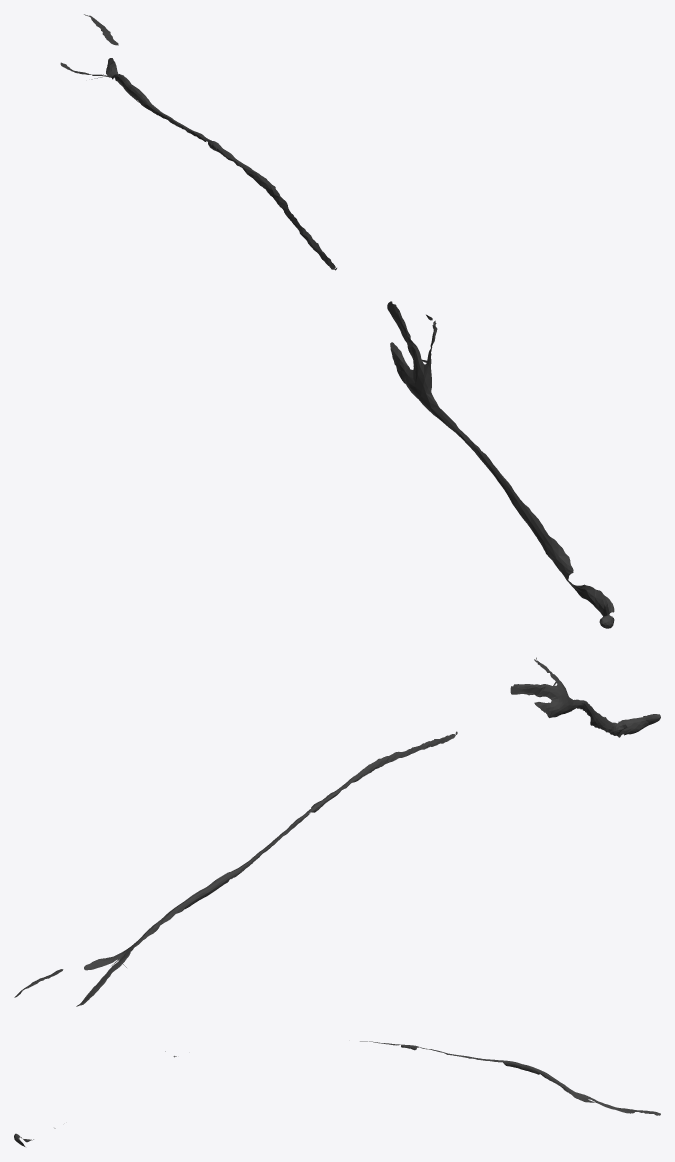
The model's file is nerve_ulnar.glb.
The picture shows the model from 3 angles, top to bottom: view 1: azimuth 30°, elevation 25°; view 2: azimuth 150°, elevation 25°; view 3: azimuth 270°, elevation 25°; orthographic projection. The views are drawn at different scales.
Visible parts, largest first — view 1: nerve_ulnar; view 2: nerve_ulnar; view 3: nerve_ulnar.
Part boxes in pixels (left/top/right/bottom): nerve_ulnar: left=60, top=14, right=614, bottom=628; nerve_ulnar: left=14, top=657, right=660, bottom=1006; nerve_ulnar: left=14, top=1041, right=660, bottom=1146.
Bounding box in the file's own units: 0.1154 × 0.1374 × 0.7732.
1 material, 1 textured.
